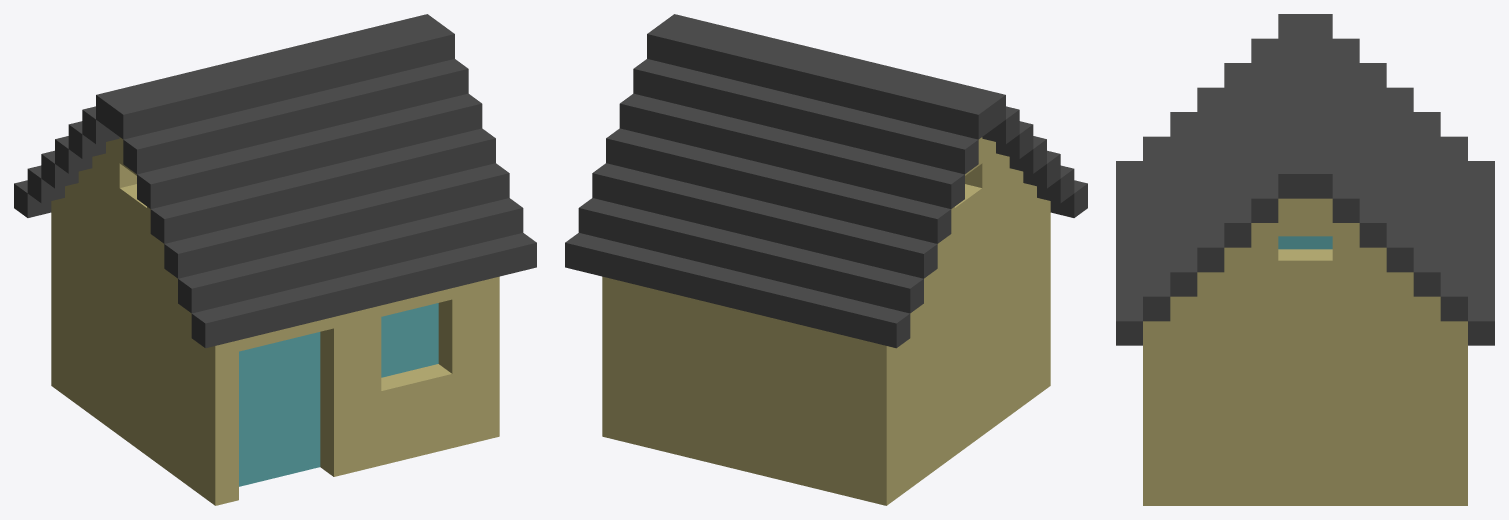
The model's file is Building14.fbx.
The picture shows the model from 3 angles, left to right: view 1: azimuth 30°, elevation 25°; view 2: azimuth 150°, elevation 25°; view 3: azimuth 270°, elevation 25°; orthographic projection.
Visible parts, largest first — view 1: ObjObject.017; view 2: ObjObject.017; view 3: ObjObject.017.
Boxes of the visible parts, bbox=[...] form: ObjObject.017: bbox=[14, 14, 536, 505]; ObjObject.017: bbox=[565, 14, 1087, 505]; ObjObject.017: bbox=[1116, 14, 1494, 505].
Bounding box in the file's own units: 140 × 140 × 140.
Materials: 1 (1 with a texture image).
